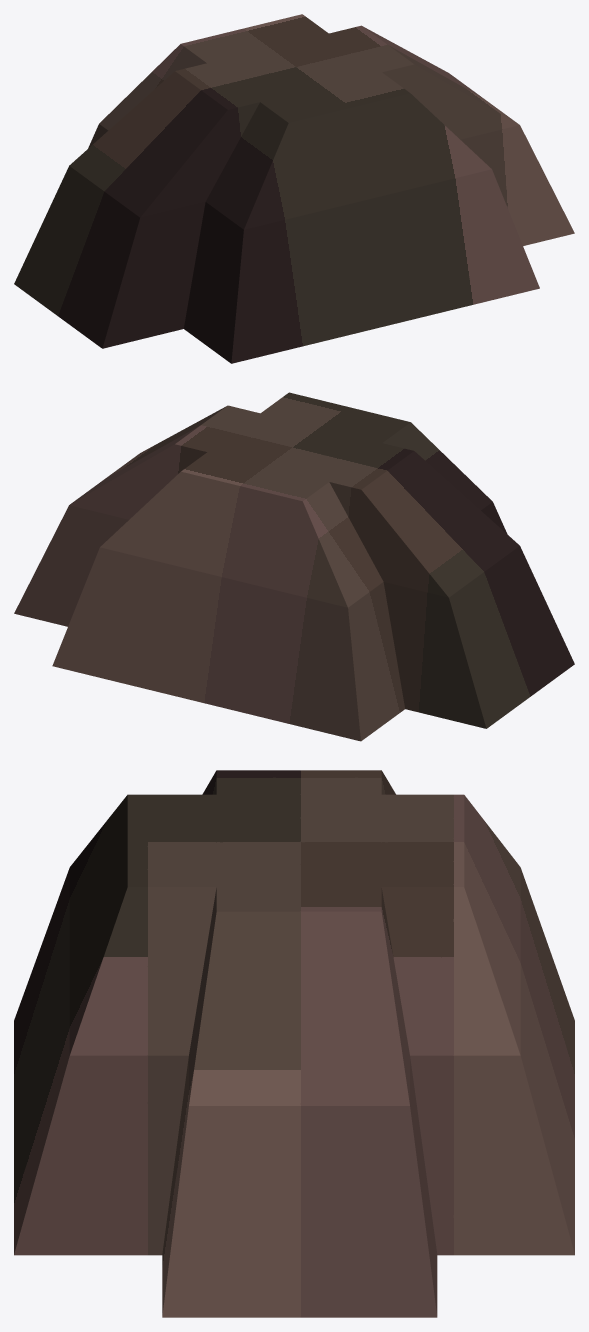
Rendered from small_rock_203x07.gltf.
3 views of the same model, one above another, from view 1: azimuth 30°, elevation 25°; view 2: azimuth 150°, elevation 25°; view 3: azimuth 270°, elevation 25° (orthographic). The views are drawn at different scales.
Visible parts, largest first — view 1: small_rock_203x07; view 2: small_rock_203x07; view 3: small_rock_203x07.
Part boxes in pixels (x1,y1,x2,y2): small_rock_203x07: (14, 14, 574, 363); small_rock_203x07: (14, 392, 574, 741); small_rock_203x07: (14, 770, 574, 1317).
Bounding box in the file's own units: 0.6473 × 0.2503 × 0.4277.
1 material, 1 textured.
